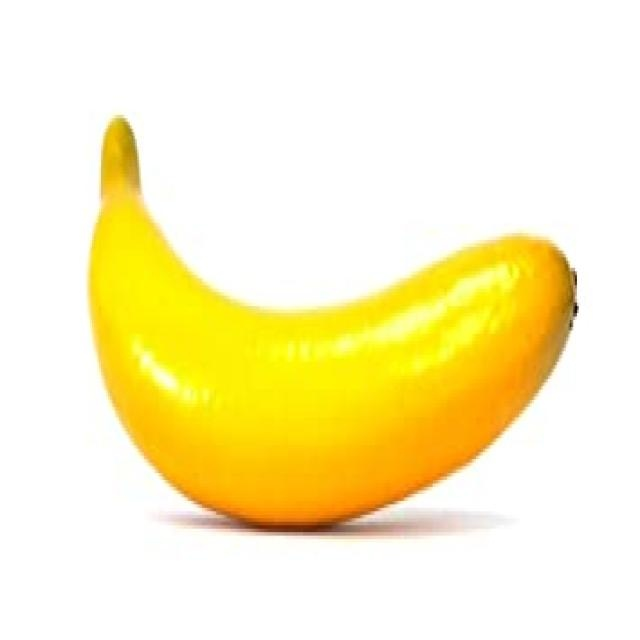agrume: (85, 117, 583, 534)
